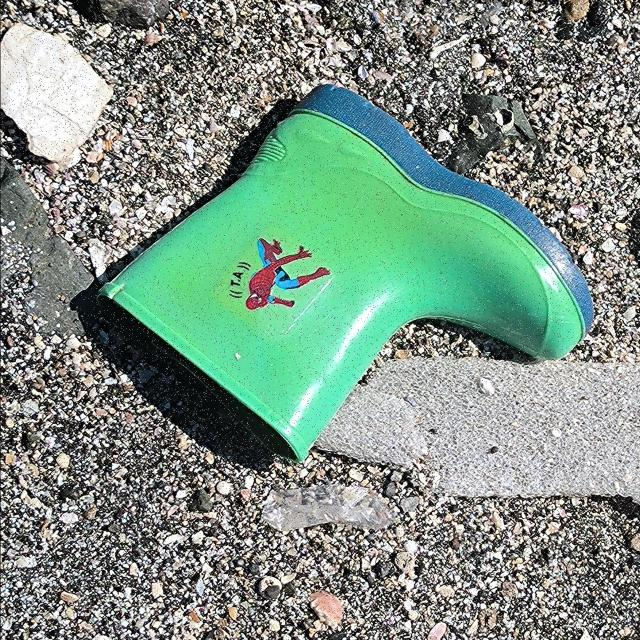rubber_waste: (95, 84, 597, 468)
